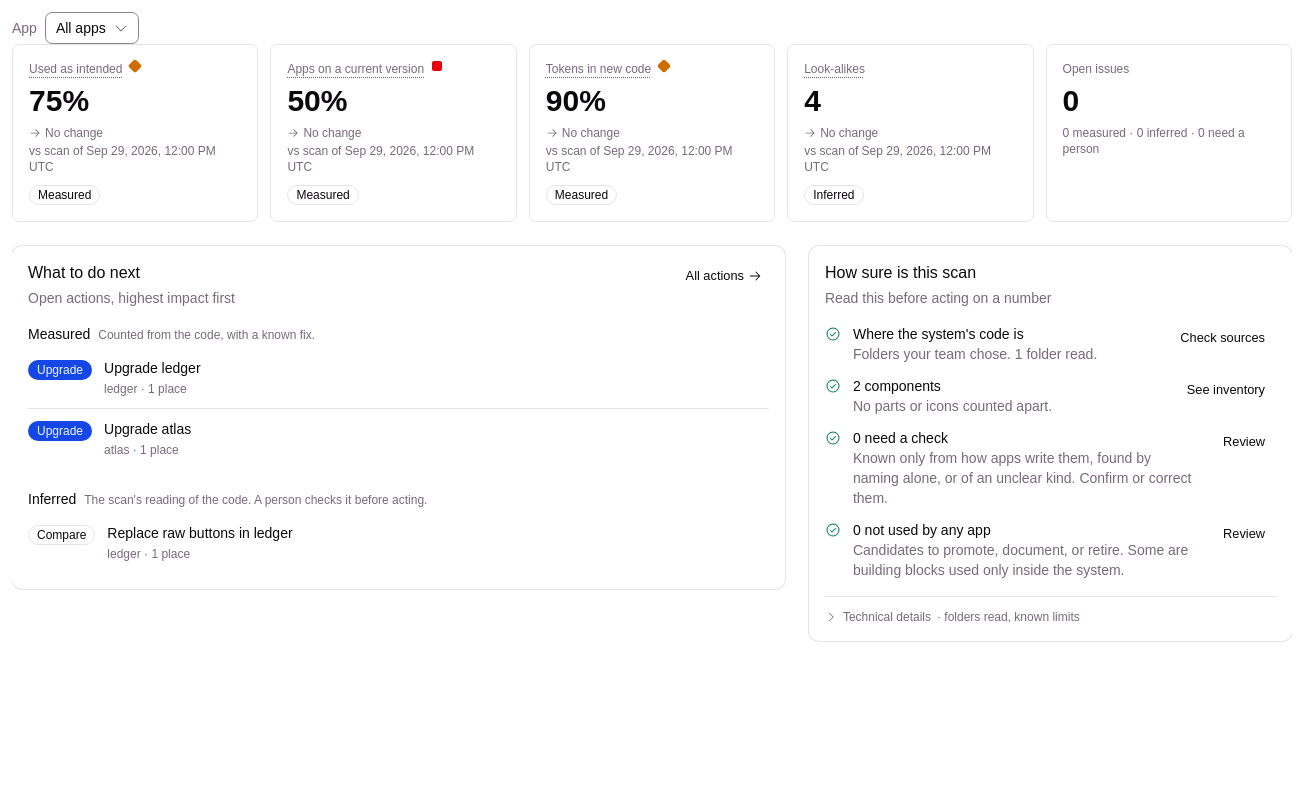
Overview: the cards, Do now / Decide and the open count follow the app
This screenshot has width=1304, height=812.
Select "ledger" in the dropdown named "App" at x=92, y=28, box top-left (45, 12), bottom-right (139, 44)
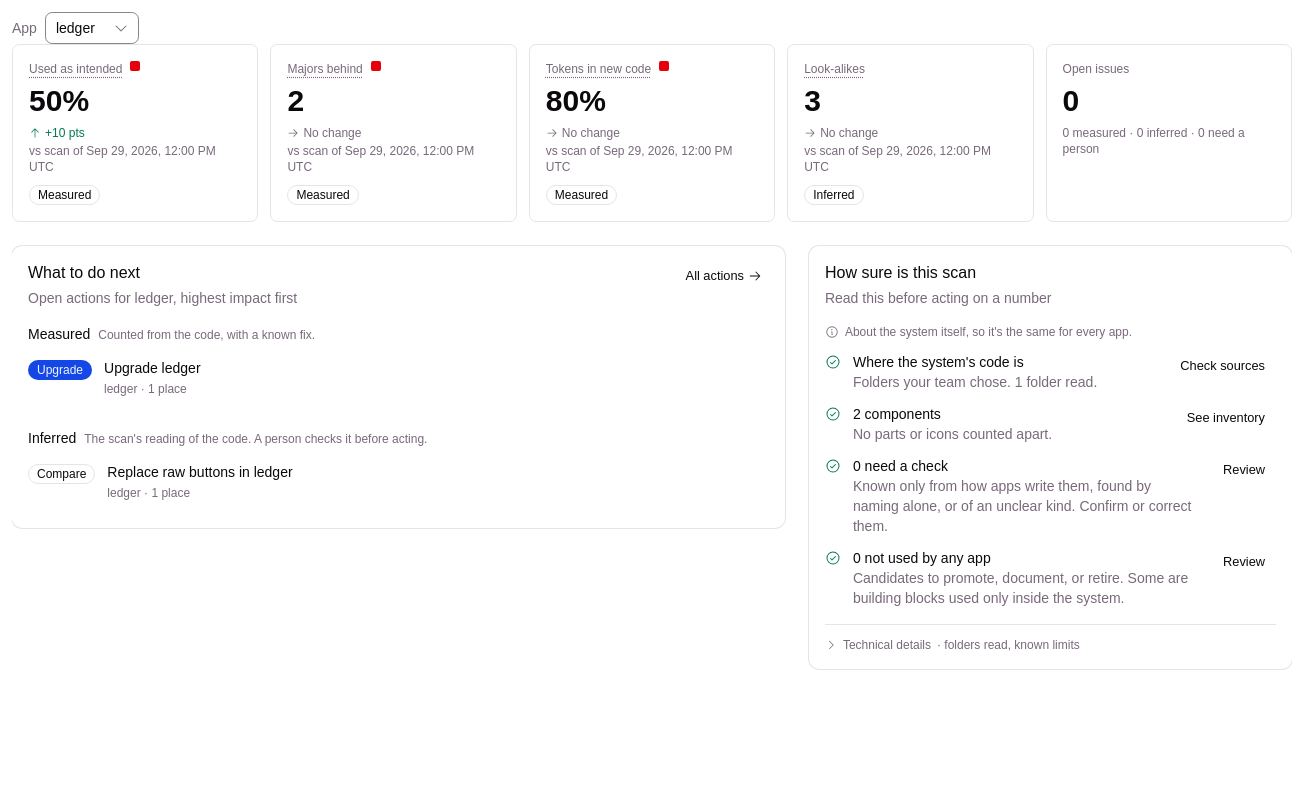
Result: the text "Majors behind" is shown at top-left (287, 61), bottom-right (363, 77)
Result: the text "+10 pts" is shown at top-left (45, 125), bottom-right (85, 141)
Result: the text "Upgrade atlas" is gone
